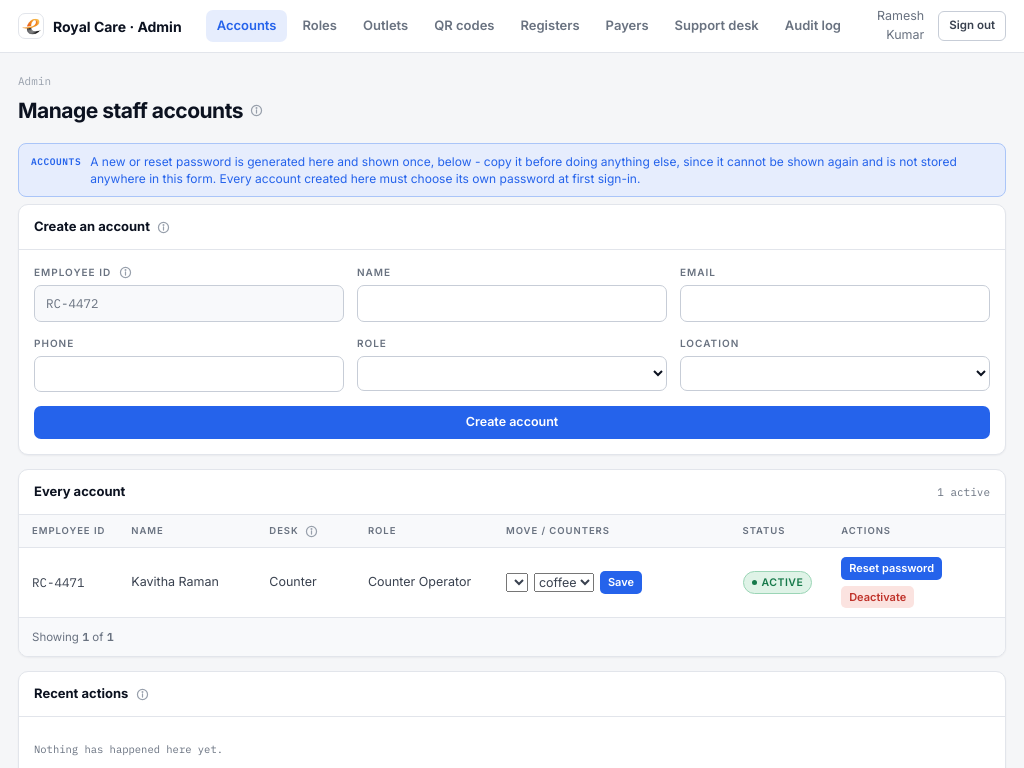
it: an audit entry › searches for the event's target, and the search box shows it without searching twice
Click the tab "Audit log". click: (813, 26)
box: [774,10,852,42]
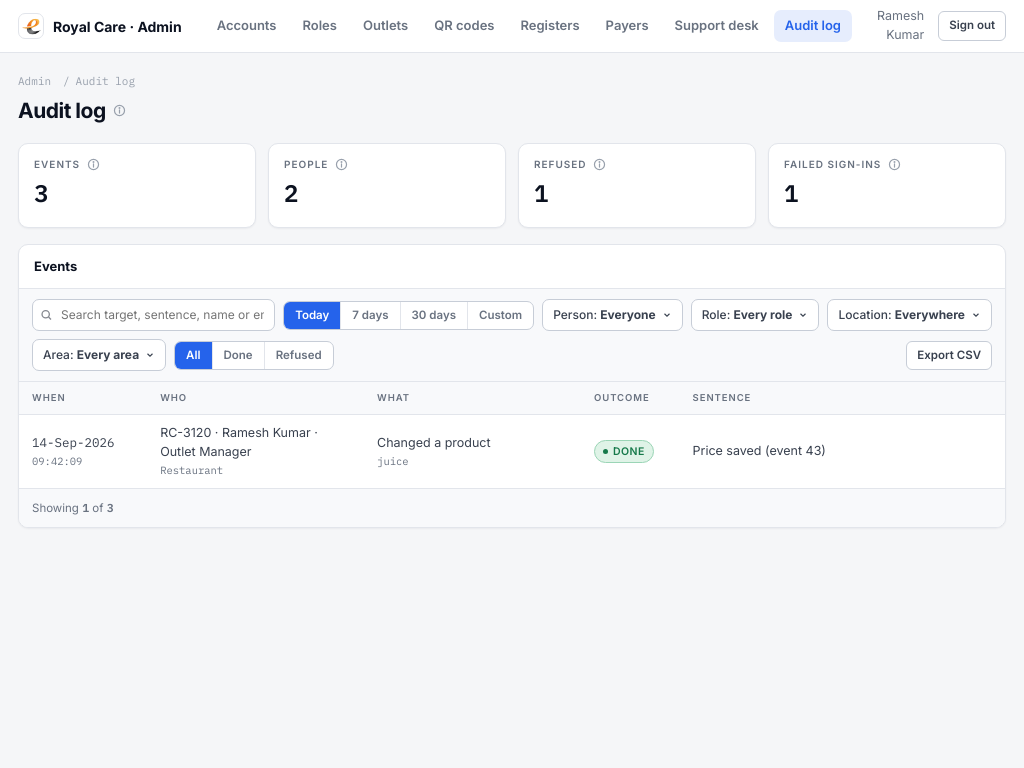
Click the row that starts with "14-Sep-2026". click: (73, 442)
box: [19,415,1005,488]
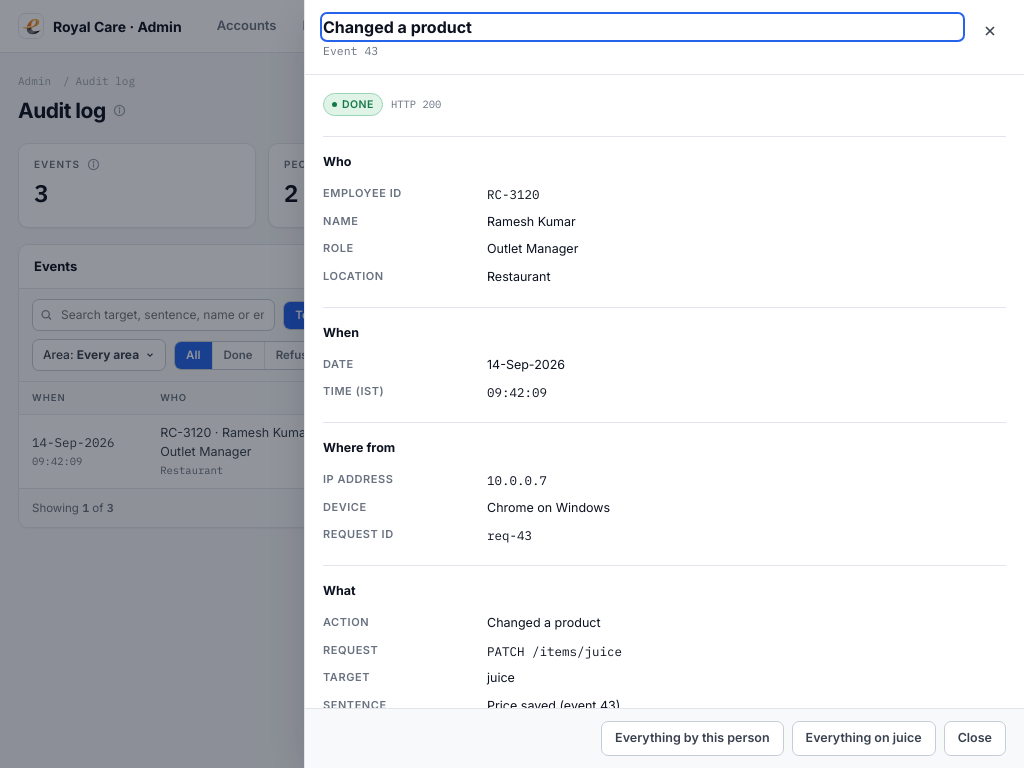
Result: the button "Everything on juice" is shown
Click the button "Everything on juice". click: (864, 739)
box: [792,721,936,756]
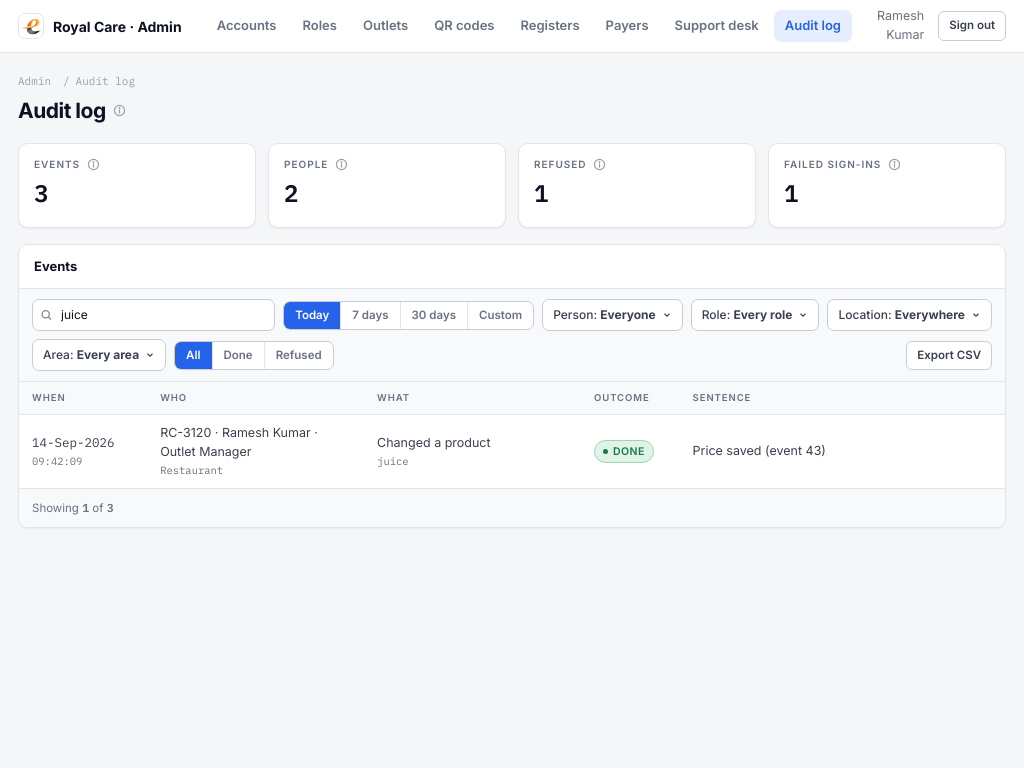
Result: the field holds "juice" at [32,299,275,331]
